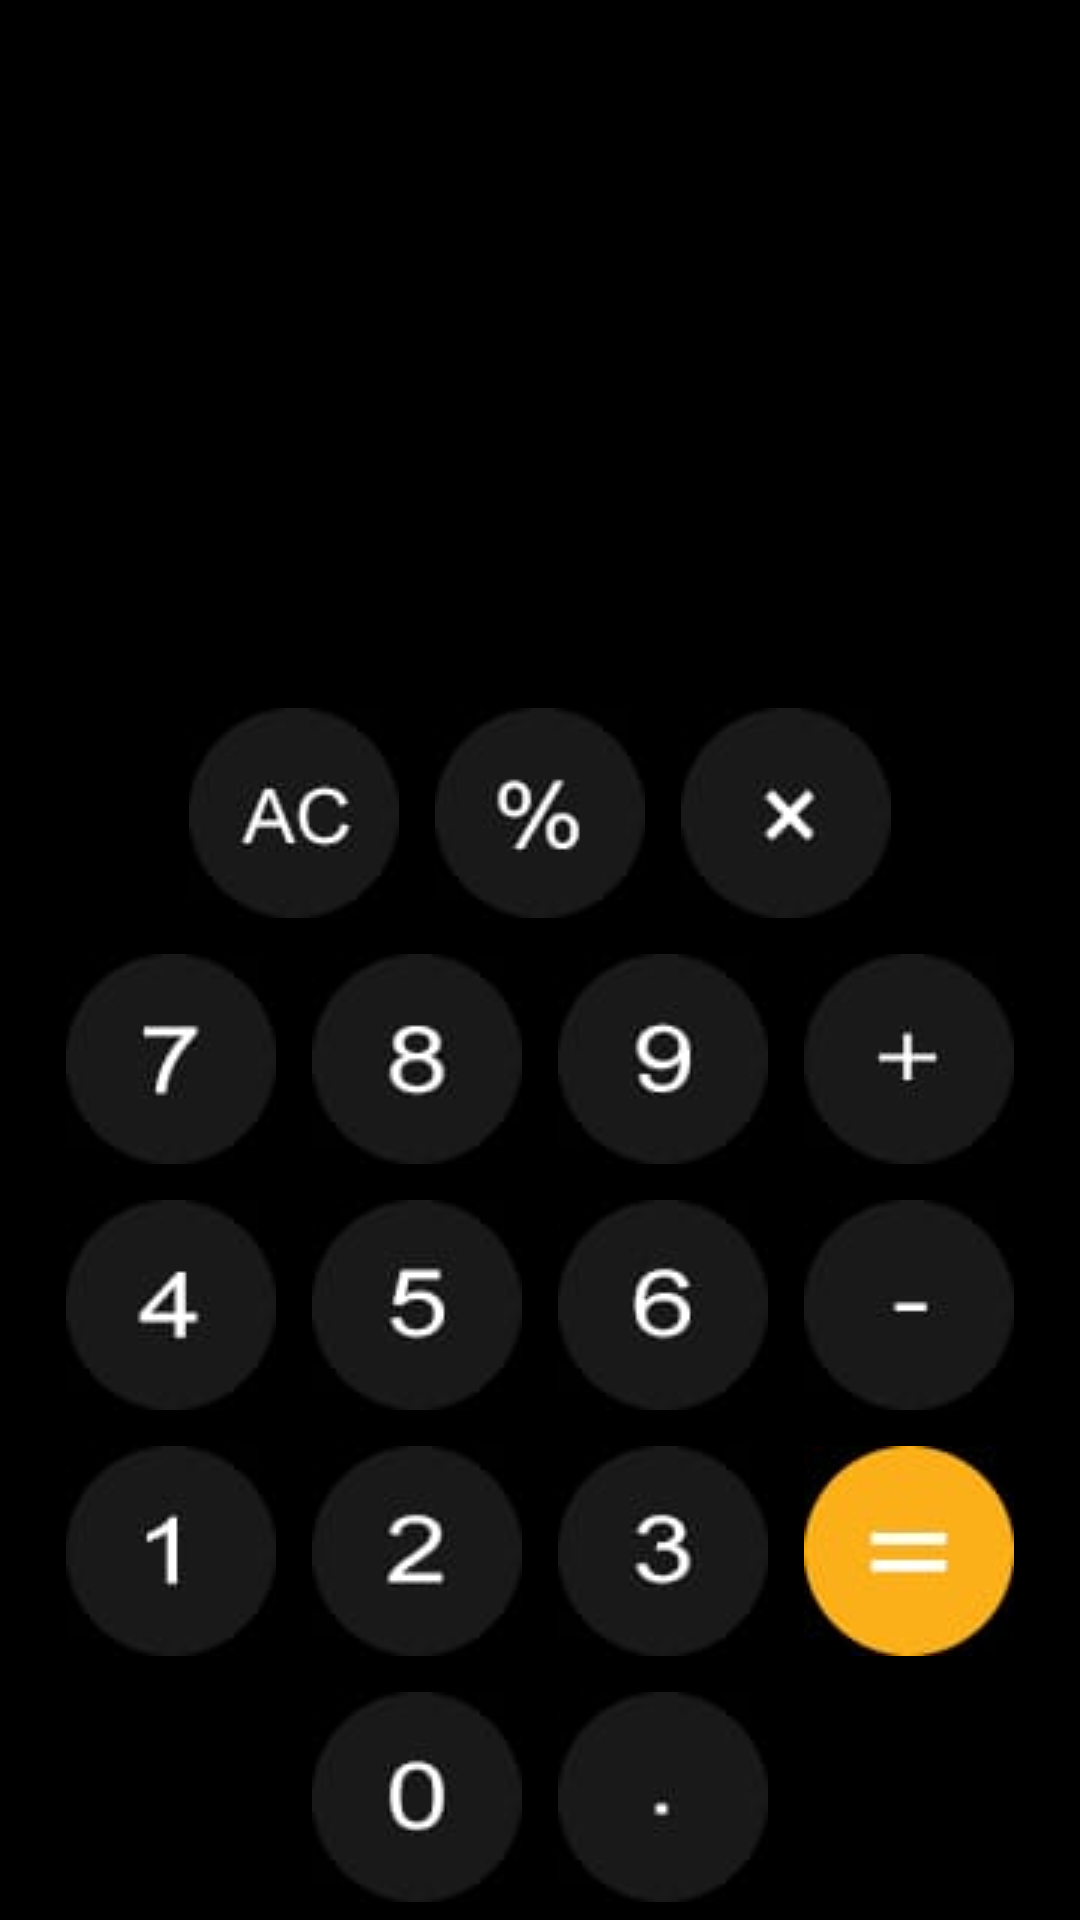

Icon bounding boxes for this 1080px x 1920px phone screenshot, format (x1=x1, y1=y1, x2=x2, y2=y2):
dot: (x1=558, y1=1692, x2=768, y2=1902)
equals: (x1=804, y1=1446, x2=1014, y2=1656)
minus: (x1=804, y1=1200, x2=1014, y2=1410)
module: (x1=435, y1=708, x2=645, y2=918)
multiply: (x1=681, y1=708, x2=891, y2=918)
plus: (x1=809, y1=954, x2=1014, y2=1164)
